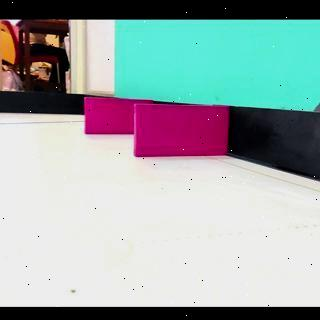xparking: (137, 106, 226, 156), (86, 100, 133, 135)
